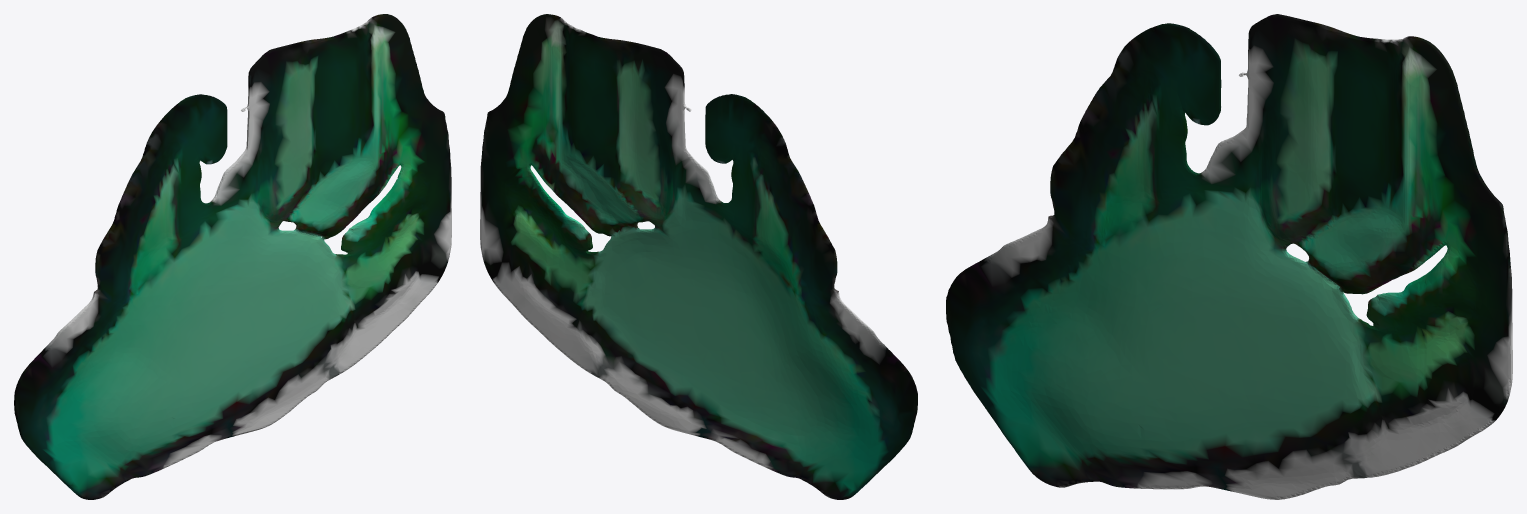
Rendered from goblin_hand.glb.
3 renders of one model, left to right at view 1: azimuth 30°, elevation 25°; view 2: azimuth 150°, elevation 25°; view 3: azimuth 330°, elevation 25°, orthographic. The views are drawn at different scales.
Visible parts, largest first — view 1: geometry_0; view 2: geometry_0; view 3: geometry_0.
Part boxes in pixels (x1,y1,x2,y2): geometry_0: [14, 14, 451, 499]; geometry_0: [480, 14, 917, 499]; geometry_0: [946, 14, 1512, 499].
Bounding box in the file's own units: 0.5 × 0.4539 × 0.0151.
